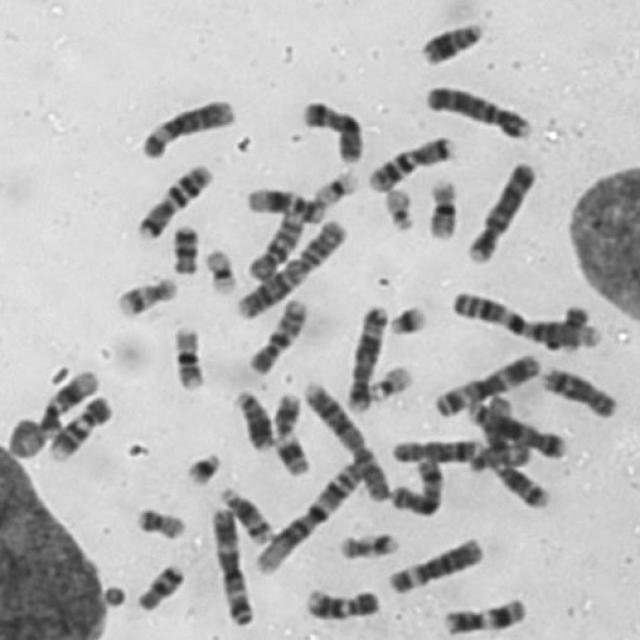A1: (250, 453, 370, 575), (445, 283, 602, 351)
A2: (229, 213, 349, 321), (299, 375, 394, 504)
A3: (428, 348, 544, 420), (205, 500, 257, 628)
B4: (461, 154, 539, 266), (419, 77, 536, 142)
B5: (462, 394, 570, 460), (341, 297, 392, 413)
C10: (243, 292, 313, 378), (242, 203, 310, 283)
C11: (438, 590, 530, 636), (268, 387, 314, 477)
C12: (34, 362, 101, 438), (241, 182, 326, 224)
C6: (136, 91, 238, 161), (383, 532, 486, 596)
C7: (132, 157, 215, 241), (363, 128, 458, 193)
C8: (537, 360, 622, 421), (387, 432, 485, 466)
C9: (43, 388, 116, 462), (300, 582, 383, 622)
D13: (414, 14, 489, 67), (227, 383, 276, 452)
D14: (214, 481, 276, 545), (486, 457, 553, 509)
D15: (482, 395, 536, 473), (470, 434, 530, 482)
E16: (168, 319, 209, 392), (421, 172, 462, 241)
E17: (110, 270, 180, 319), (334, 526, 401, 562)
E18: (131, 558, 188, 614), (166, 219, 202, 277)
F19: (308, 164, 362, 210), (199, 242, 239, 296)
F20: (130, 501, 189, 542), (554, 300, 590, 352)
G21: (179, 444, 224, 487), (383, 298, 430, 338)
G22: (363, 358, 416, 403), (379, 180, 418, 233)
X: (296, 94, 368, 164), (384, 452, 446, 518)
